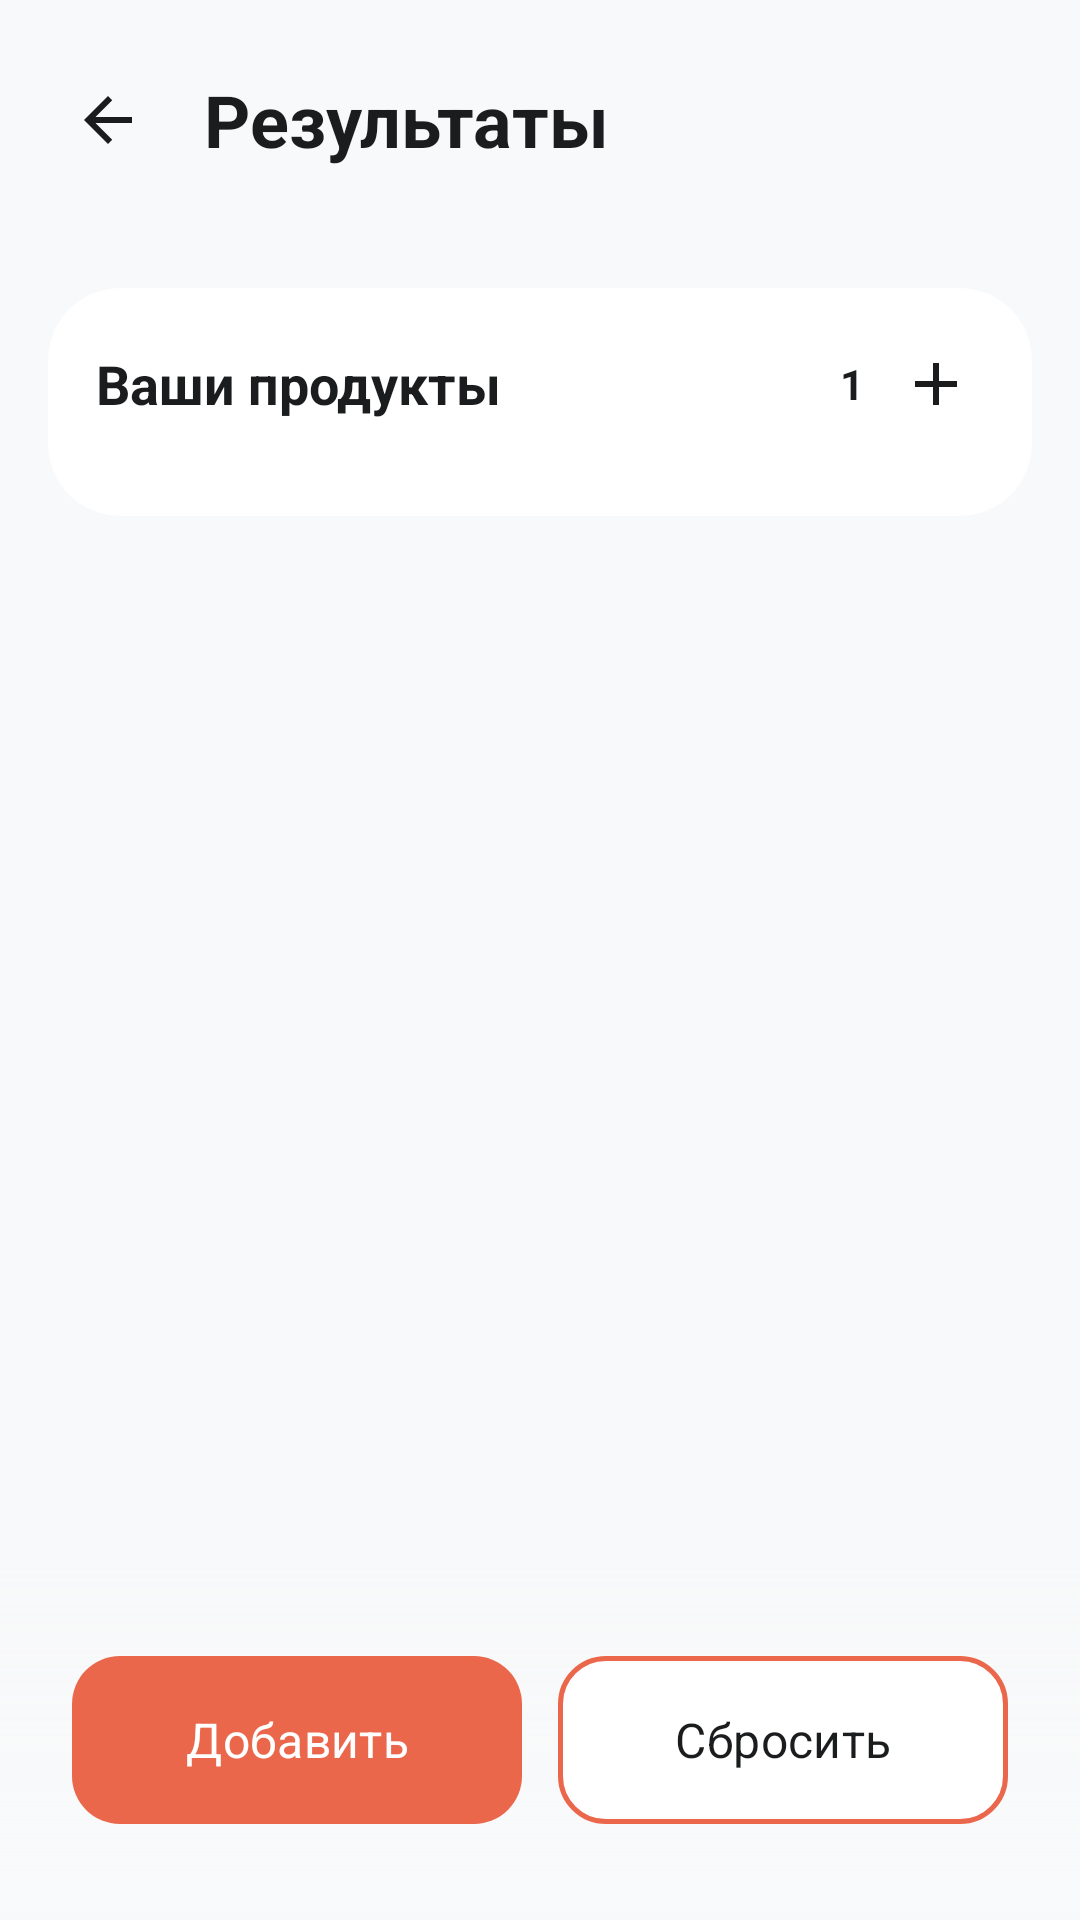

Icon bounding boxes for this 1080x1920 phone screenshot, format (x1, y1, x2, y2):
add: (915, 363, 957, 405)
arrow back: (84, 96, 132, 144)
